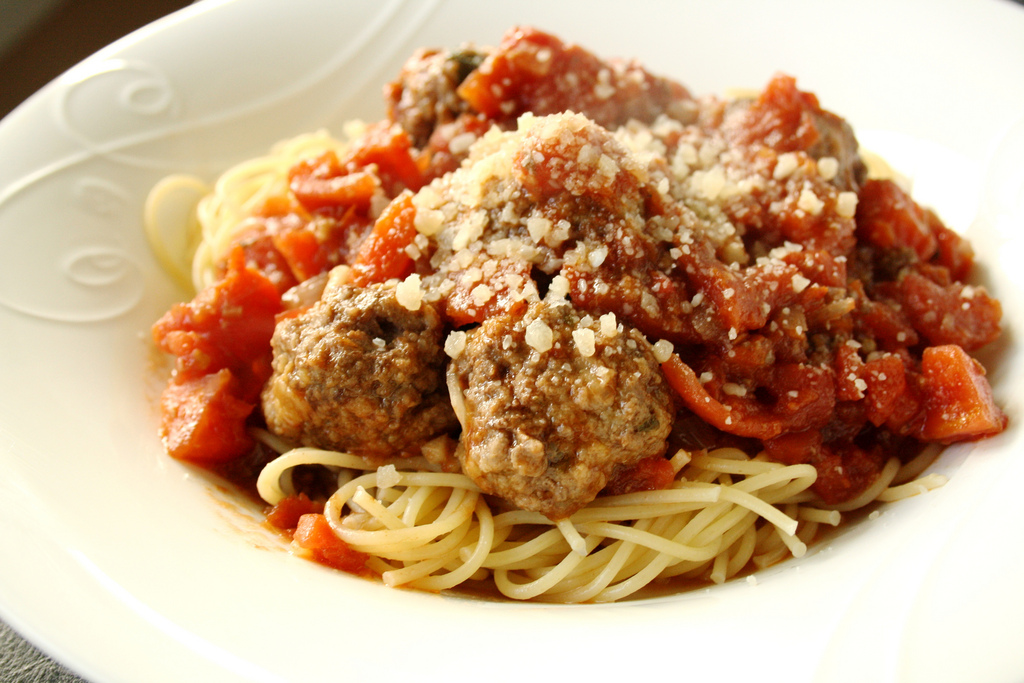meatballs: (446, 308, 688, 521), (256, 276, 455, 456)
plain spaghetti: (277, 476, 848, 595)
